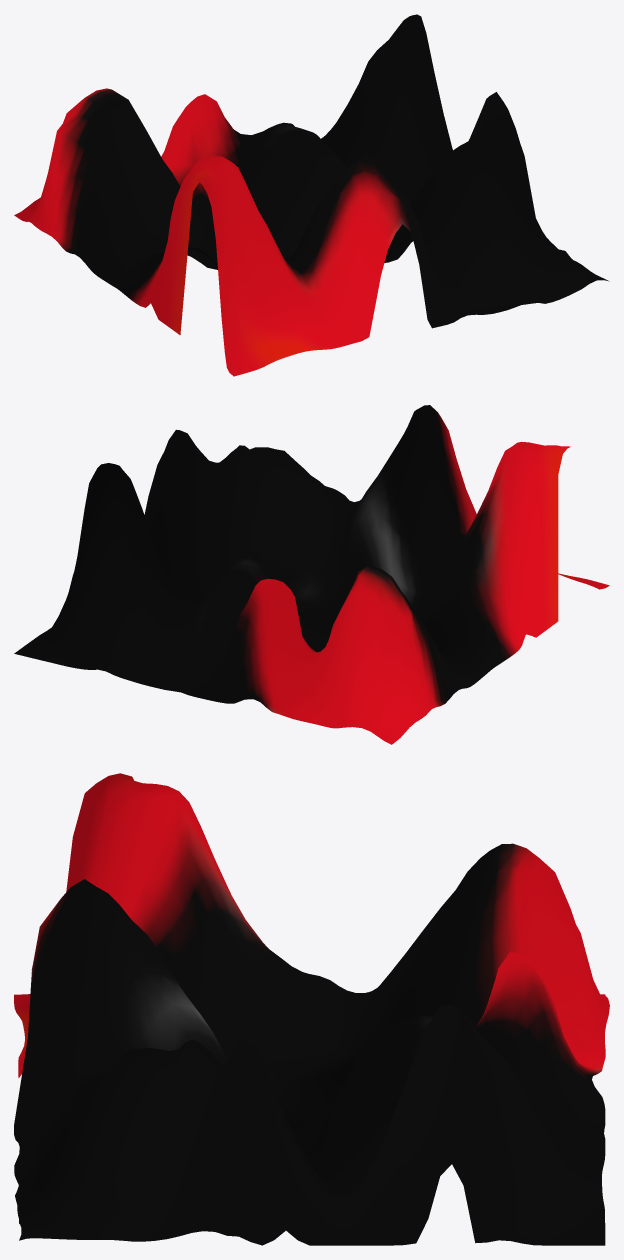
Rendered from ground.gltf.
3 renders of one model, top to bottom at view 1: azimuth 30°, elevation 25°; view 2: azimuth 150°, elevation 25°; view 3: azimuth 270°, elevation 25°, orthographic. The views are drawn at different scales.
Visible parts, largest first — view 1: Environnement; view 2: Environnement; view 3: Environnement.
Boxes of the visible parts, x1,y1,x2,y2 form: Environnement: (14,14,609,376); Environnement: (14,405,609,744); Environnement: (14,773,609,1245).
Bounding box in the file's own units: 385 × 166 × 384.
